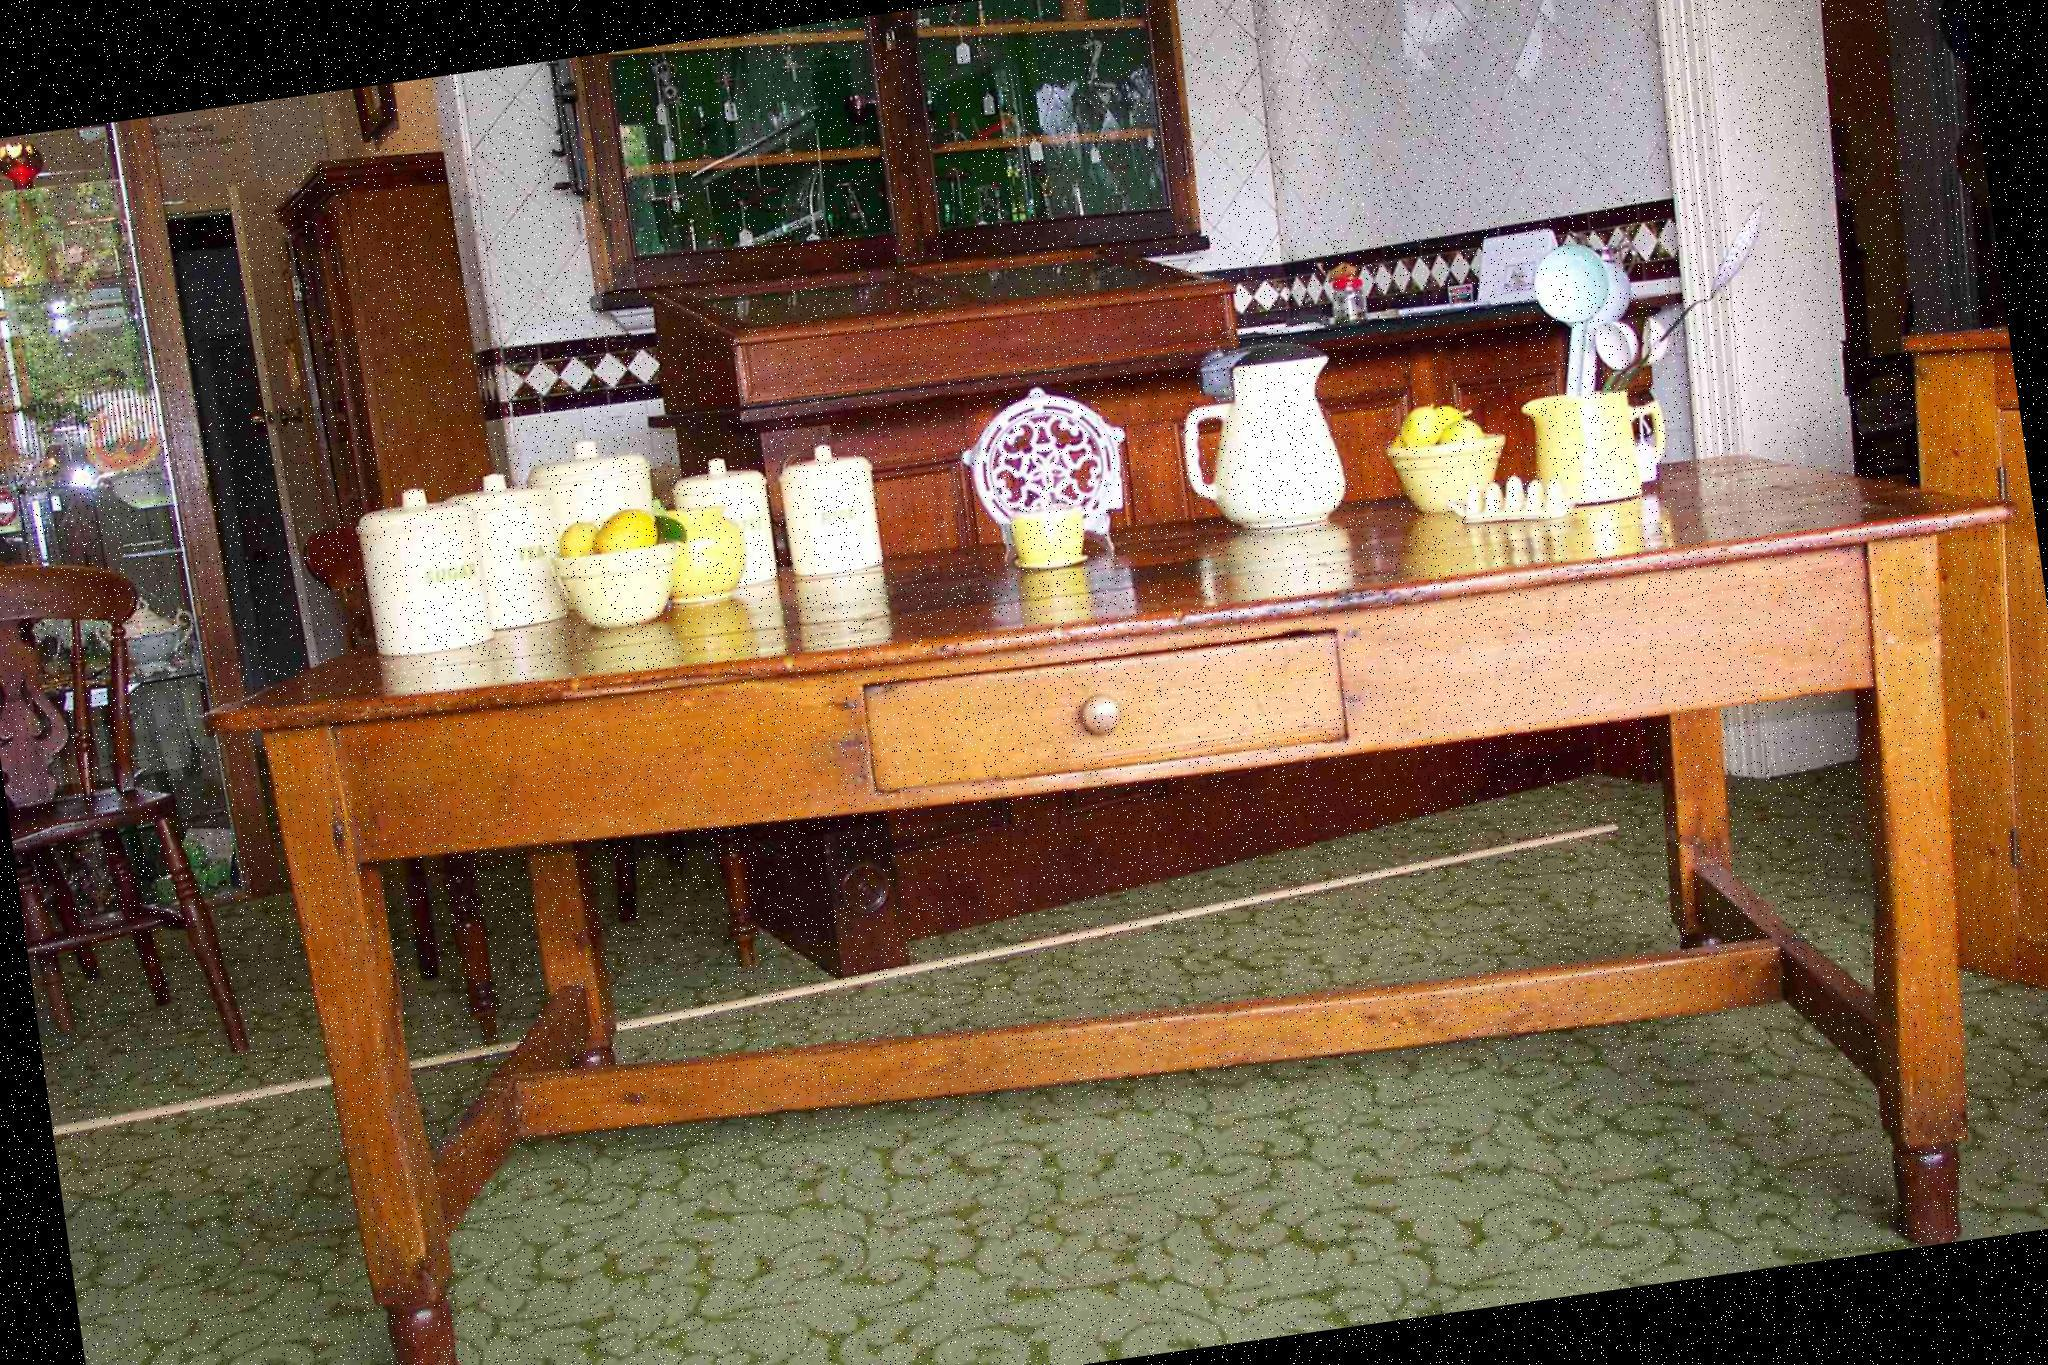Mesa: (231, 401, 2046, 1363)
Silla: (0, 512, 270, 1077)
